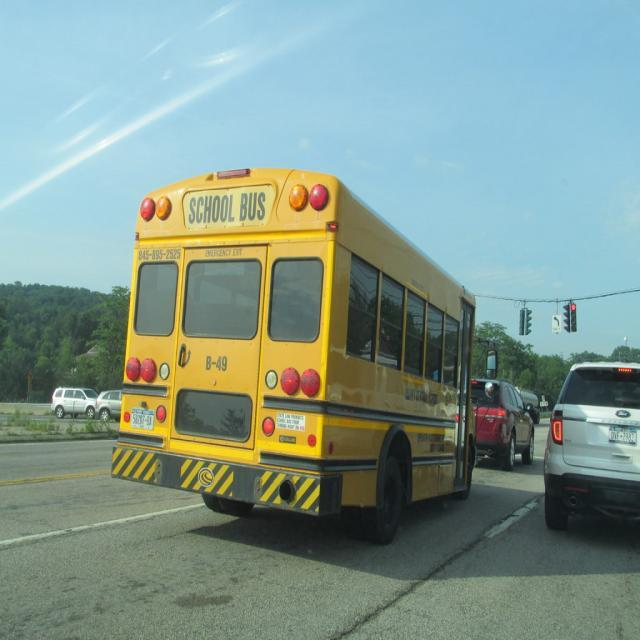motorcycle: (110, 162, 498, 548)
truck: (528, 360, 640, 526), (458, 371, 538, 462)
